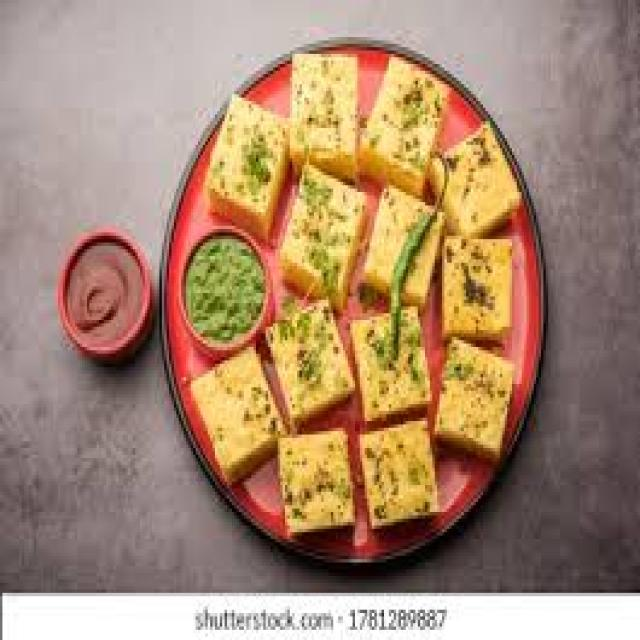DHOKLA: (203, 84, 293, 239), (355, 55, 453, 196), (279, 164, 371, 311), (192, 348, 283, 488), (262, 297, 359, 424), (432, 116, 528, 244), (351, 413, 443, 534), (433, 333, 515, 463), (349, 296, 432, 420), (363, 189, 443, 305), (290, 51, 358, 180), (276, 427, 358, 530), (443, 236, 516, 334)
